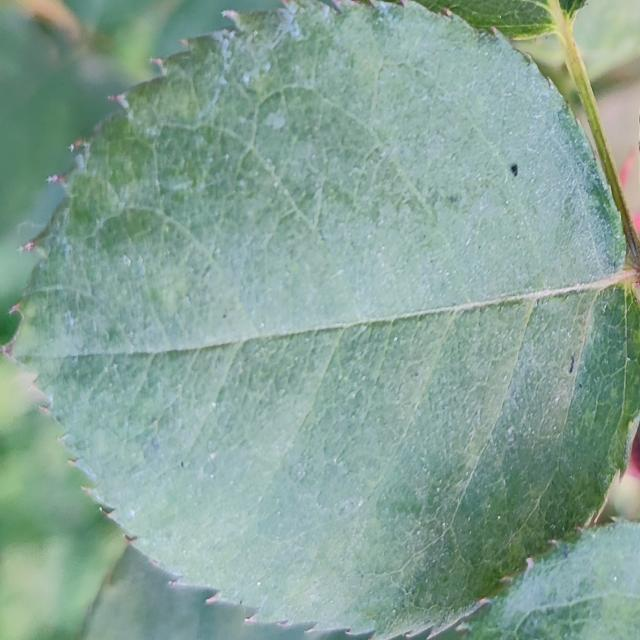Black_spot: (506, 160, 520, 179)
Rose: (2, 0, 639, 639)
